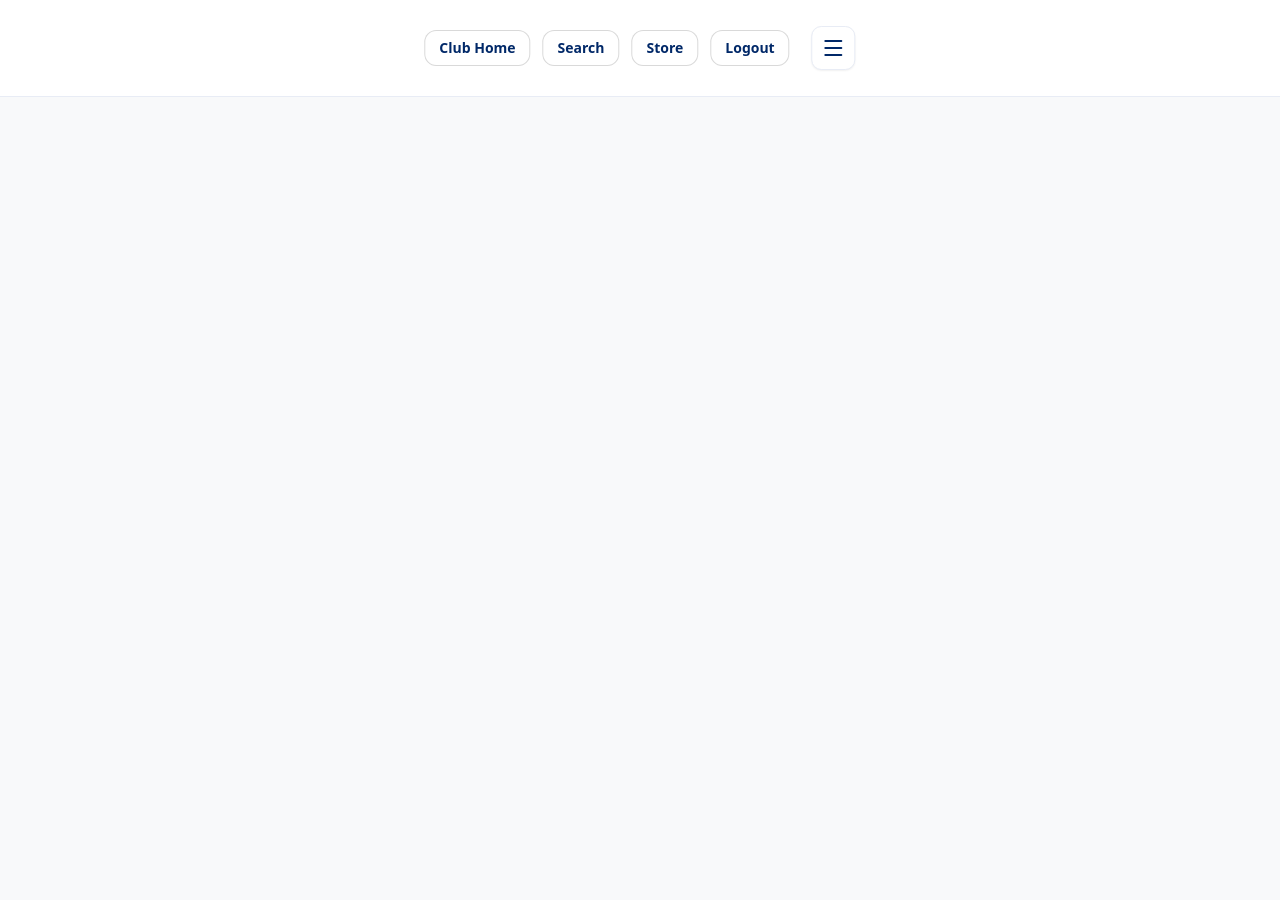
Header mobile navigation wiring › opens member hamburger drawer when logged in
This screenshot has width=1280, height=900.
Click the button named "Open menu".
click(834, 48)  # box [812, 26, 856, 70]
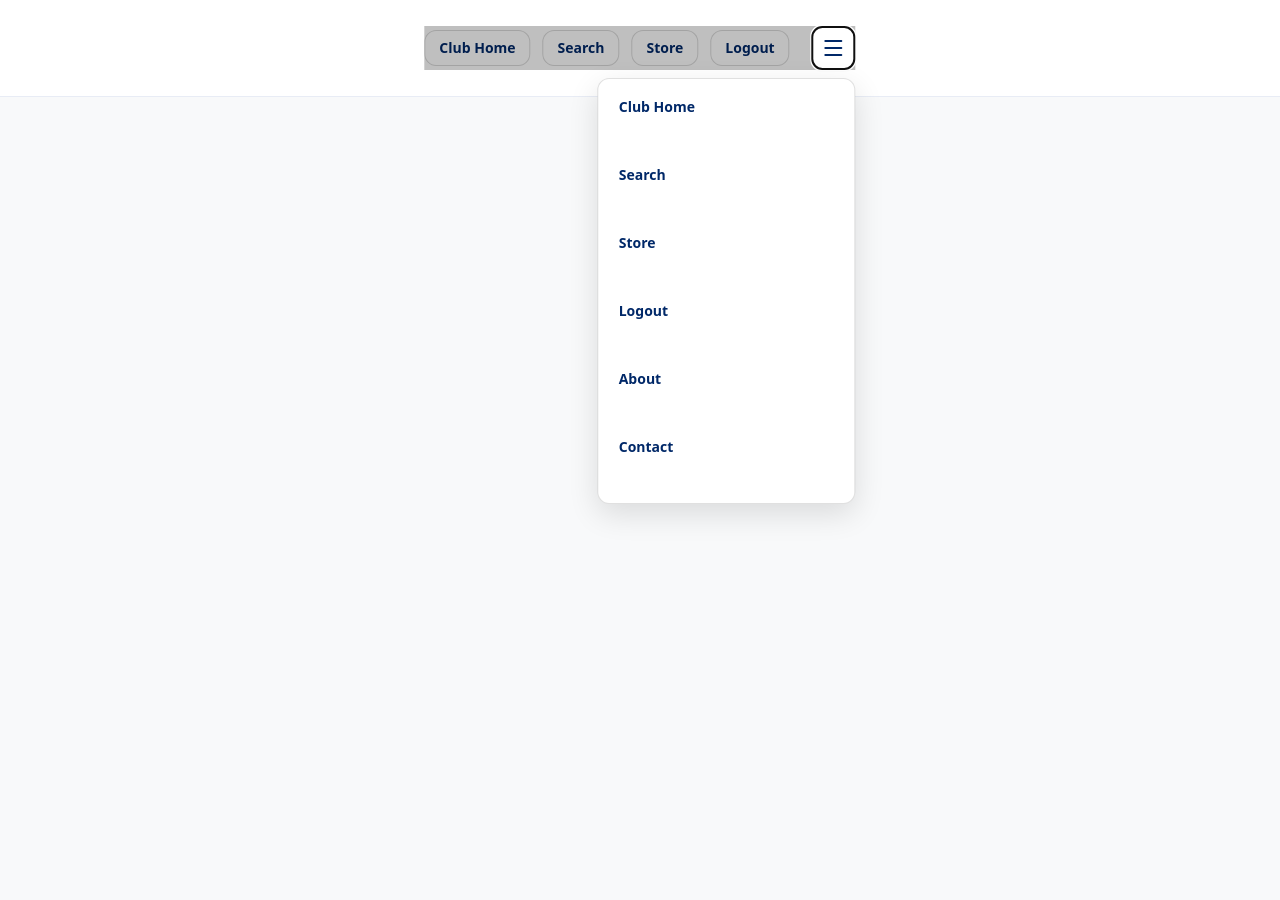
Expected: the 2nd link "Club Home" is shown, [619, 97, 695, 116]
Expected: the 2nd link "Logout" is shown, [619, 301, 668, 320]
Expected: the links read "Club Home", "Search", "Store", "Logout", "About", "Contact", in this order, [619, 97, 695, 116]; [619, 165, 666, 184]; [619, 233, 656, 252]; [619, 301, 668, 320]; [619, 369, 661, 388]; [619, 437, 673, 456]
